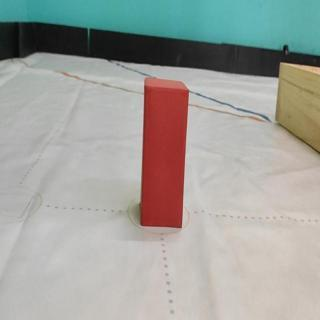redbox: (142, 77, 189, 228)
